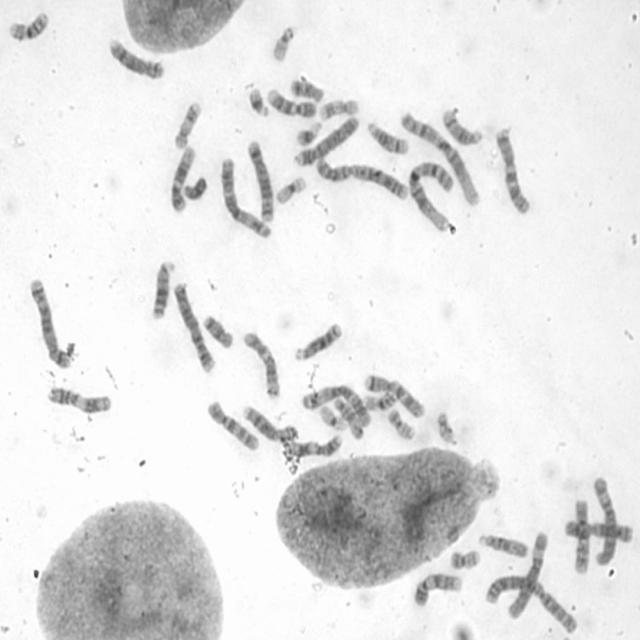A1: (397, 106, 482, 208), (405, 158, 457, 233)
A2: (482, 570, 580, 635), (312, 153, 410, 202)
A3: (219, 154, 273, 239), (299, 380, 372, 429)
B4: (171, 278, 217, 376), (290, 110, 360, 167)
B5: (26, 274, 75, 370), (244, 137, 276, 225)
C10: (204, 396, 261, 452), (571, 495, 590, 574)
C11: (44, 383, 113, 415), (283, 431, 343, 457)
C12: (241, 327, 282, 400), (169, 142, 196, 215)
C6: (505, 529, 549, 619), (590, 472, 620, 567)
C7: (493, 124, 532, 216), (361, 370, 427, 420)
C8: (106, 34, 166, 80), (240, 402, 300, 444)
C9: (410, 568, 464, 608), (264, 85, 318, 119)
D13: (291, 319, 343, 362), (149, 256, 176, 321)
D14: (440, 104, 484, 148), (364, 118, 411, 156)
D15: (476, 530, 530, 559), (331, 394, 366, 438)
E16: (6, 7, 50, 43), (362, 385, 400, 412)
E17: (171, 97, 203, 151), (316, 95, 361, 121)
E18: (202, 312, 234, 349), (288, 75, 326, 104)
F19: (273, 173, 307, 206), (317, 400, 348, 432)
F20: (384, 405, 417, 441), (448, 547, 482, 570)
G21: (244, 82, 270, 118), (293, 118, 322, 148)
G22: (268, 22, 296, 64), (434, 408, 457, 444)
X: (560, 515, 635, 545)
Y: (180, 173, 208, 201)
